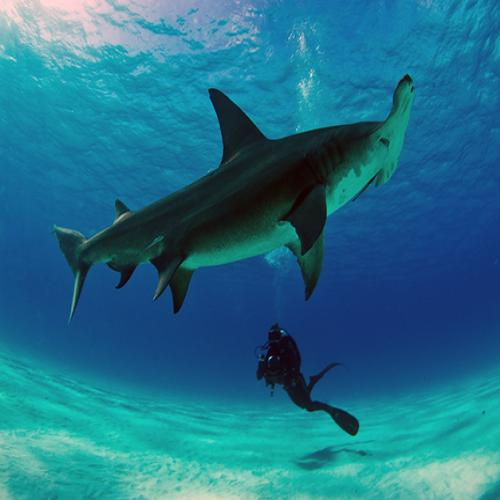shark-endangered: (53, 76, 416, 322)
